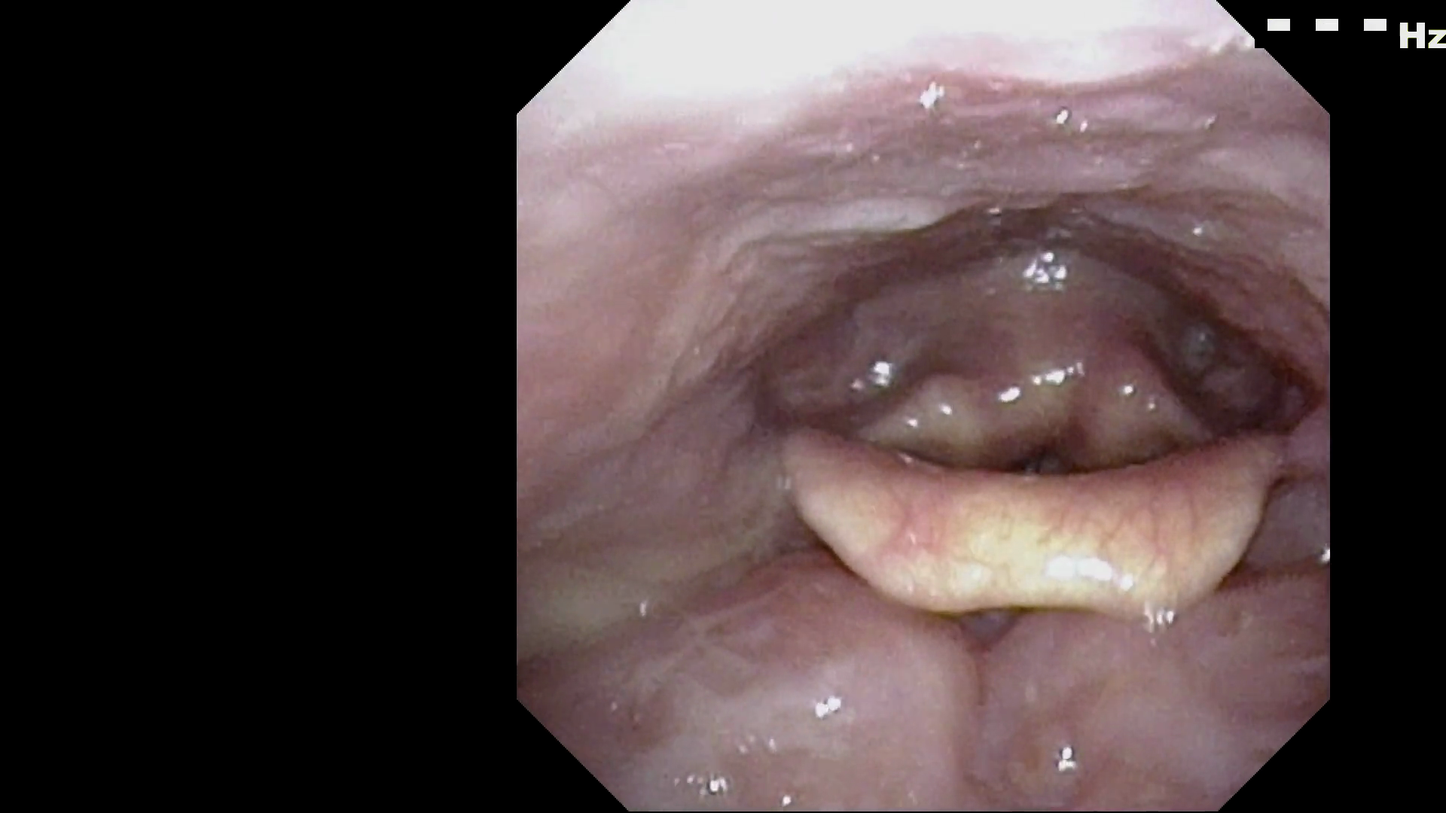epiglottis: (777, 388, 1302, 628)
trachea: (967, 386, 1114, 540)
